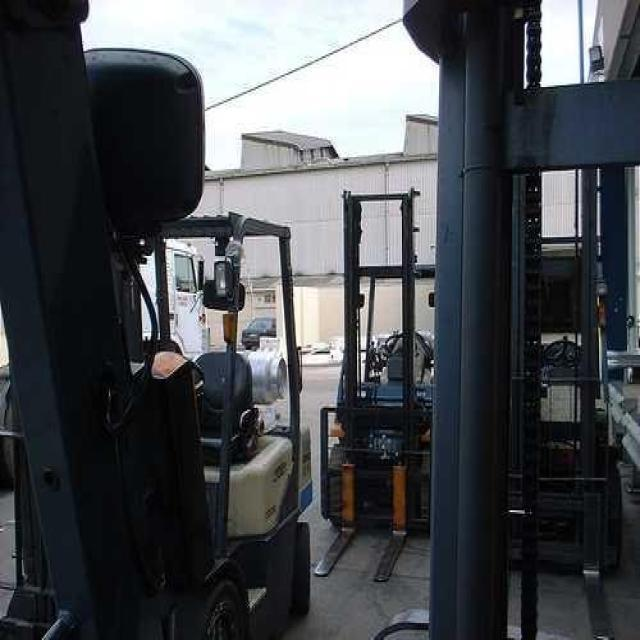forklift: (0, 0, 311, 640), (507, 130, 621, 572), (319, 184, 432, 541)
